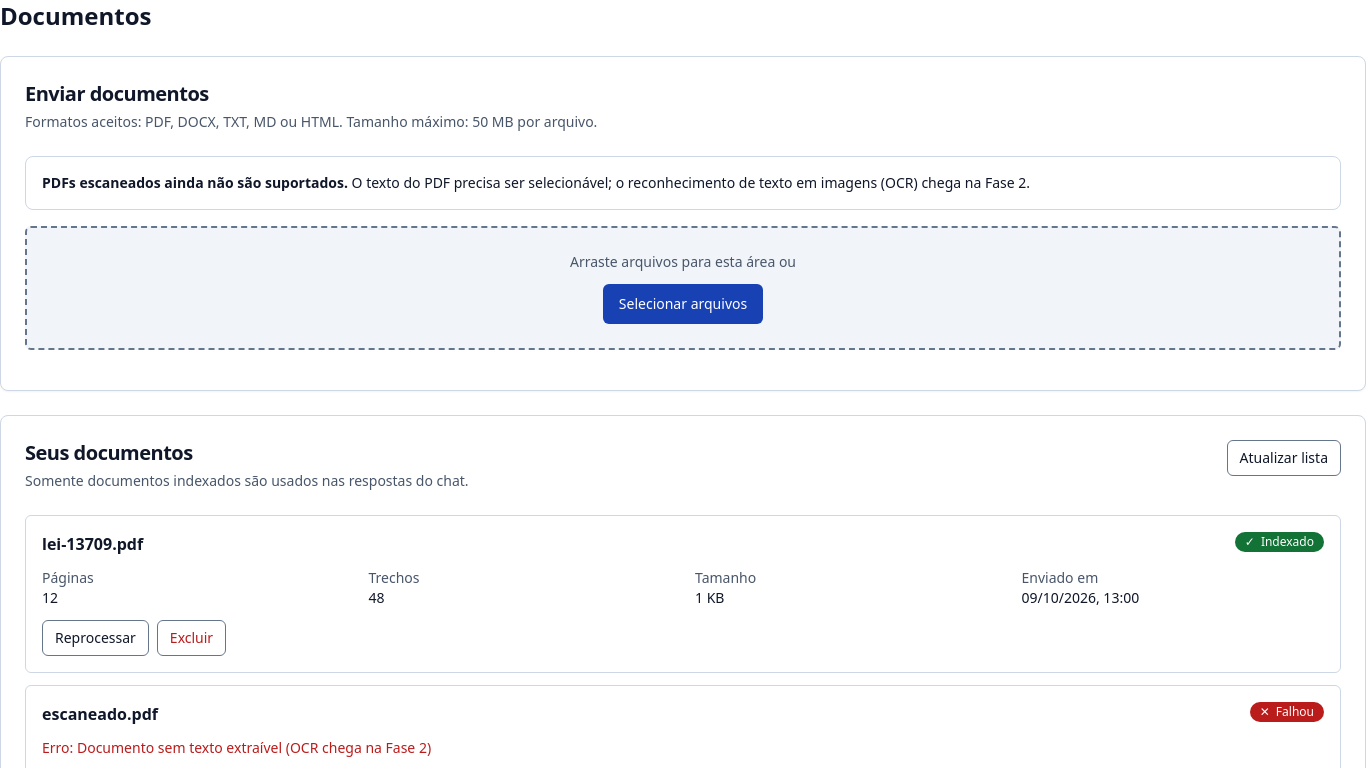
it: DocumentsScreen › exclui somente após confirmação no diálogo
The image size is (1366, 768).
Expected: the list item with test id "document-doc-1" is shown, [25,515,1341,673]
Click the button named "Excluir lei-13709.pdf": point(192, 638) [157,620,226,656]
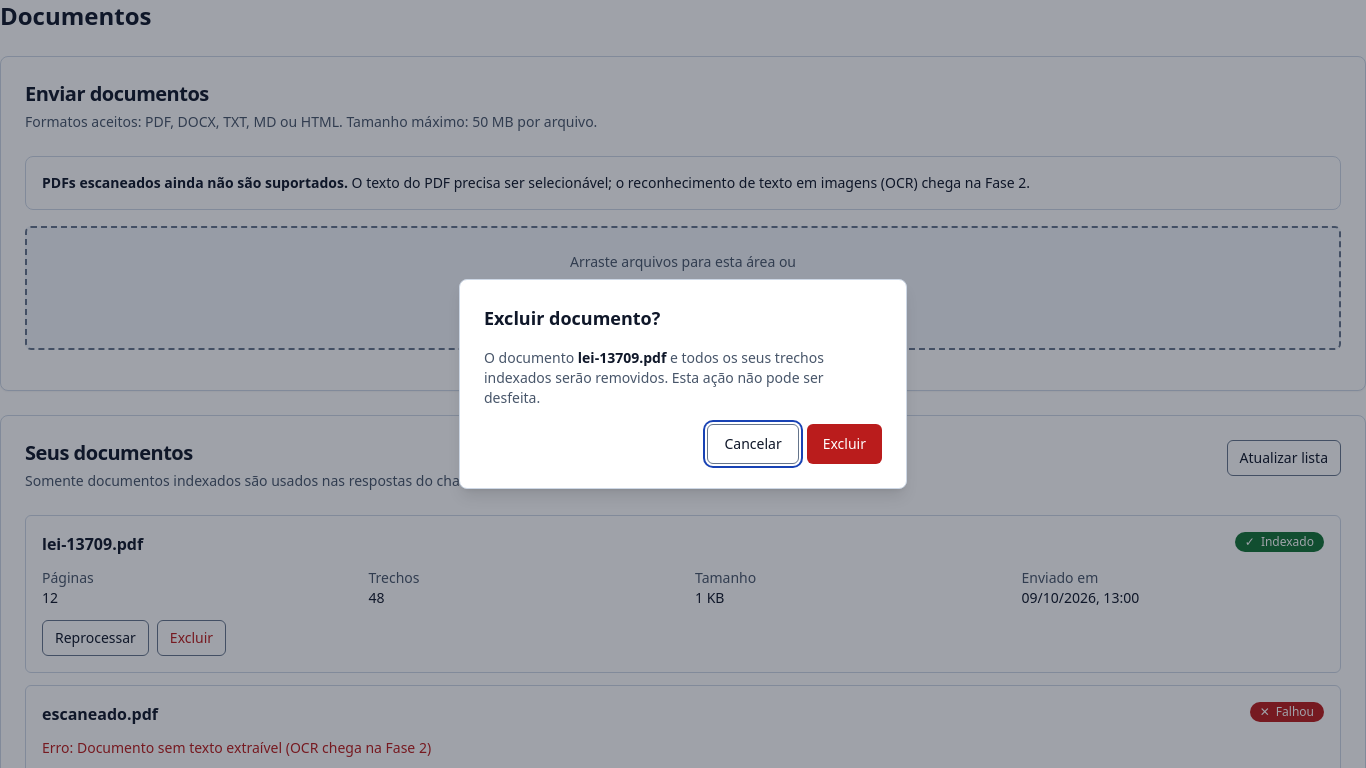
Click the button "Cancelar": point(753, 444) [708,424,799,464]
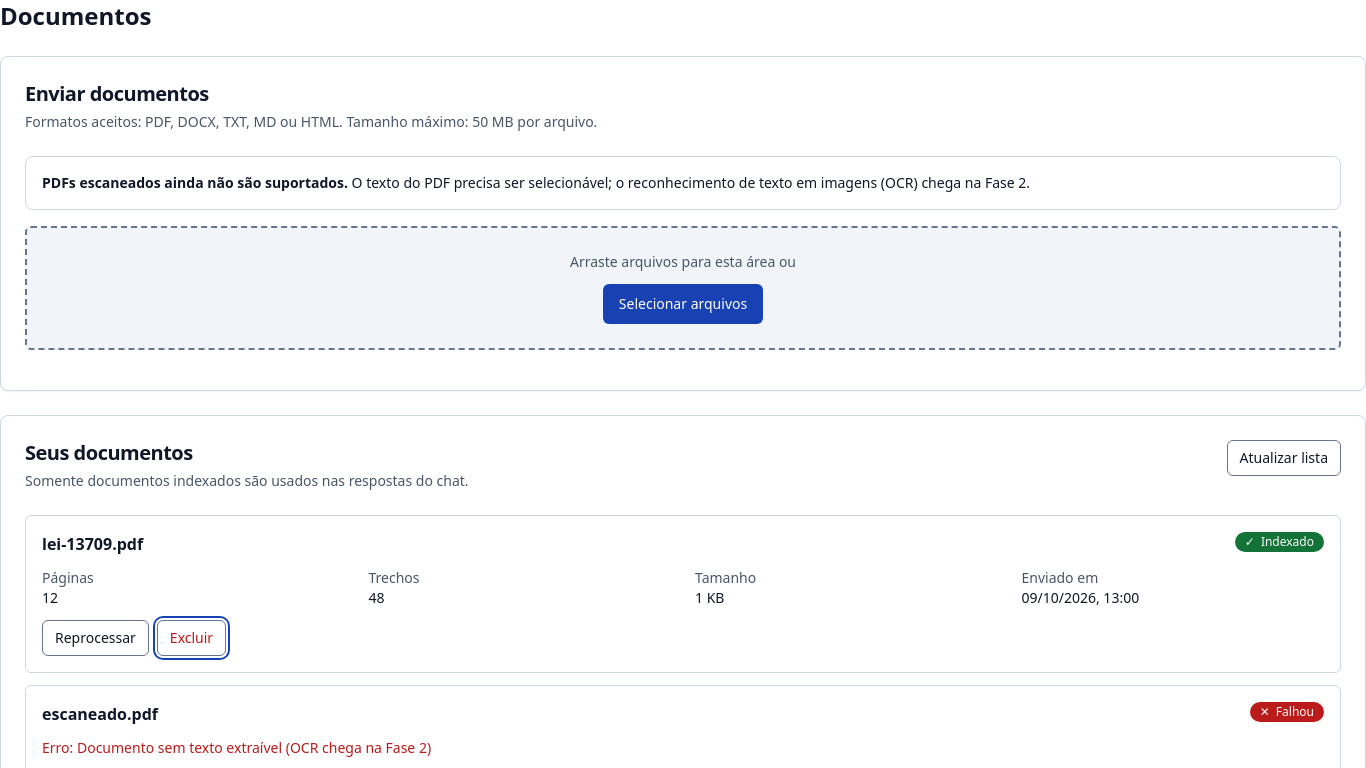
Expected: the dialog is gone
Click the button named "Excluir lei-13709.pdf": point(192, 638) [157,620,226,656]
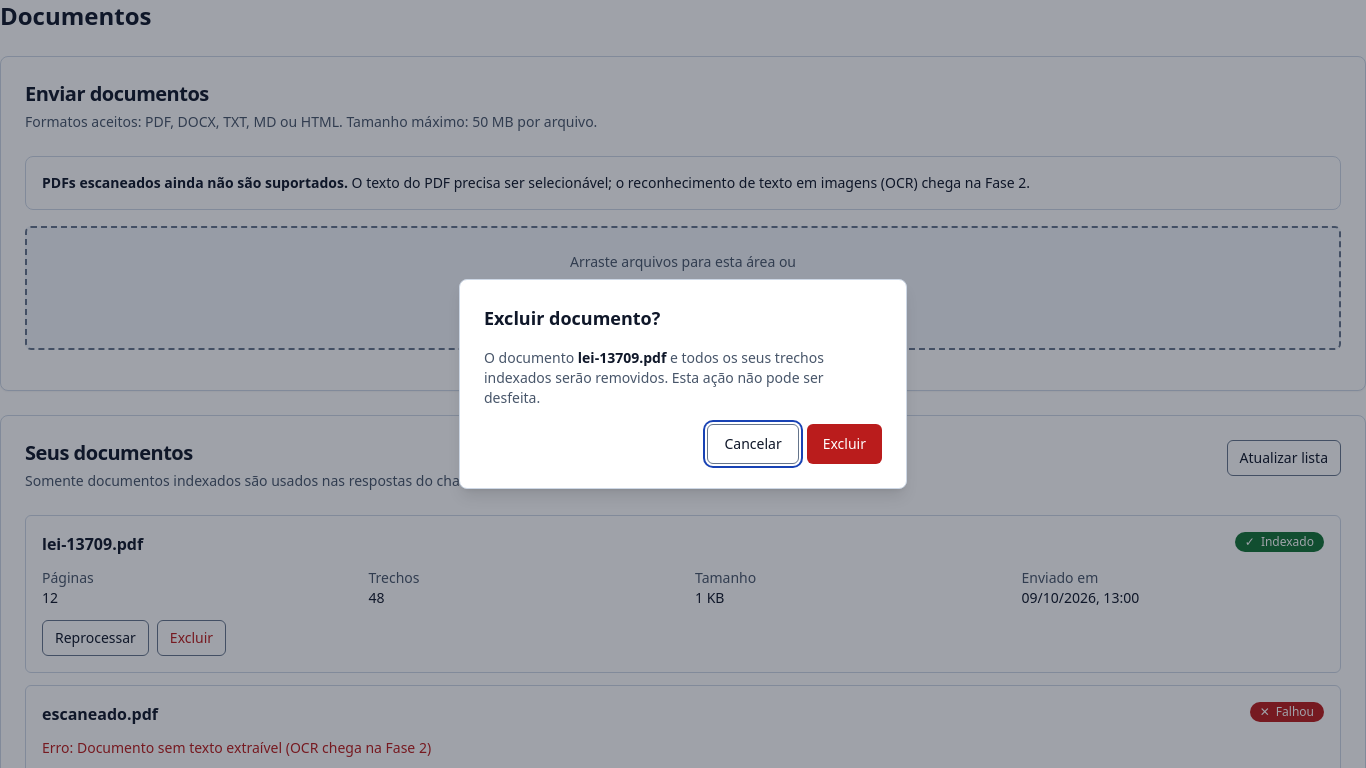
Click the button "Excluir": point(844, 444) [807,424,882,464]
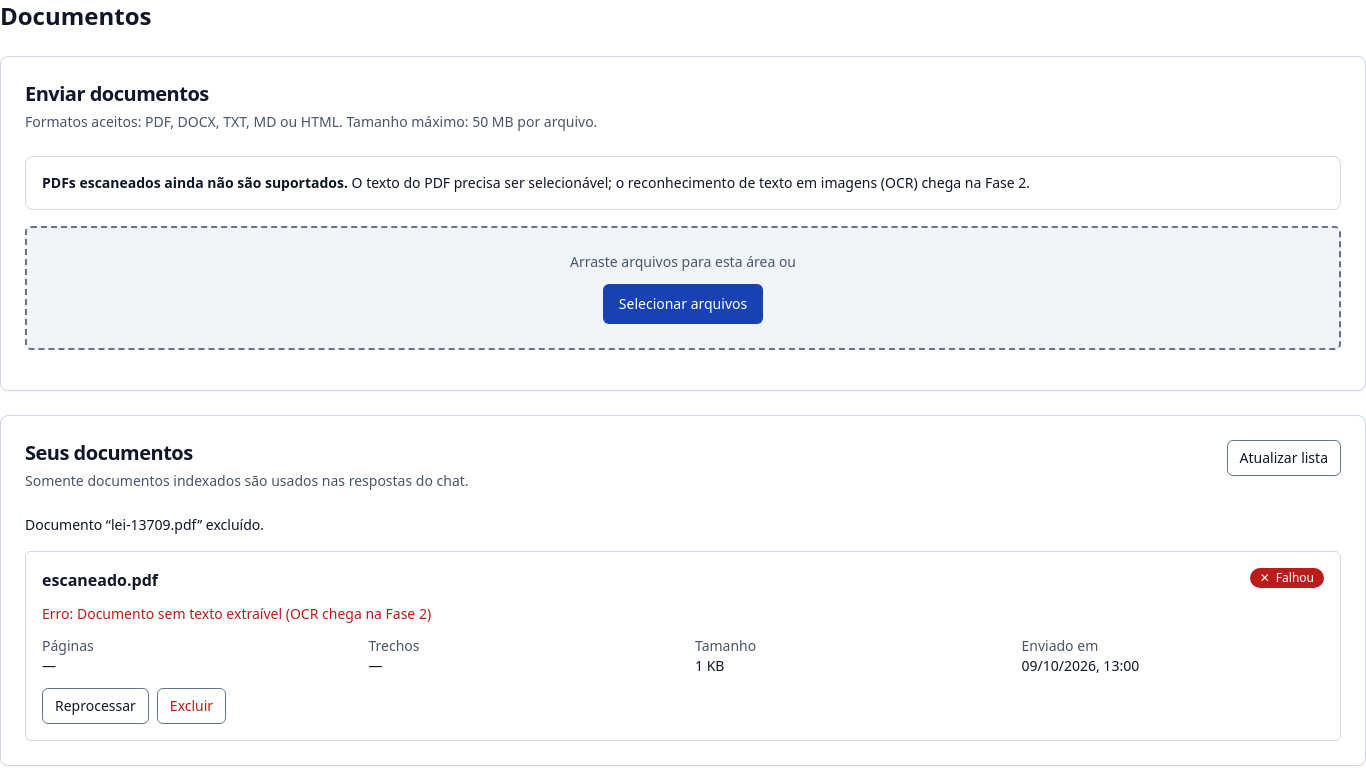
Expected: the list item with test id "document-doc-1" is gone
Expected: the text "Documento “lei-13709.pdf” excluído." is shown, [25,515,264,534]
